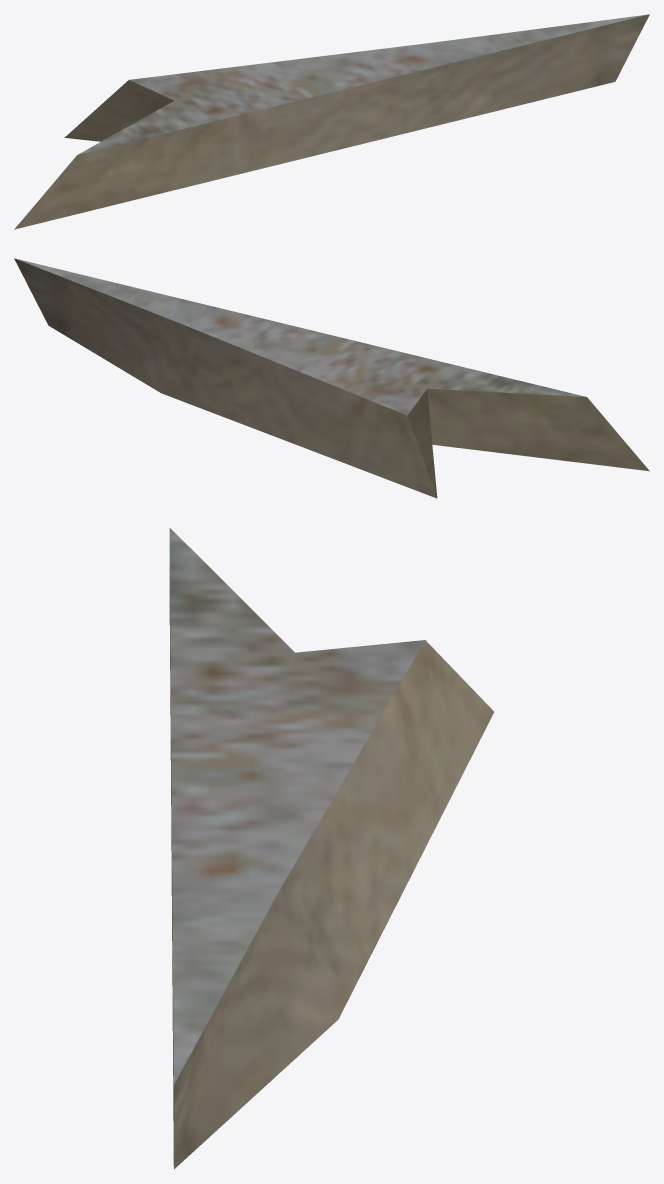
The model's file is debris_wood5.glb.
The picture shows the model from 3 angles, top to bottom: view 1: azimuth 30°, elevation 25°; view 2: azimuth 150°, elevation 25°; view 3: azimuth 270°, elevation 25°; orthographic projection. The views are drawn at different scales.
Parts seen in each view (by area): view 1: debris_wood5; view 2: debris_wood5; view 3: debris_wood5.
Part boxes in pixels (<box>): debris_wood5: <box>14,14,649,229</box>; debris_wood5: <box>14,258,649,498</box>; debris_wood5: <box>169,528,494,1169</box>.
Size of the model in its own units: 0.2594 by 0.023 by 0.0575.
1 material, 1 textured.
